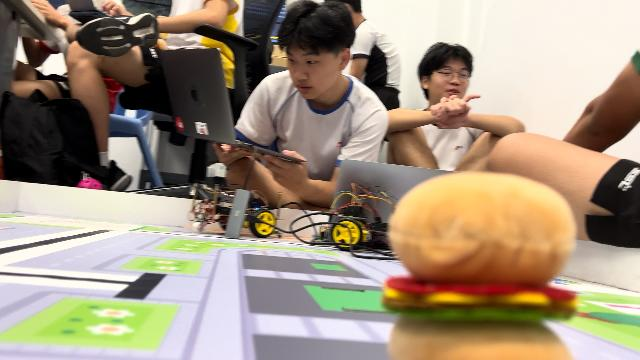burger: (376, 167, 580, 359)
